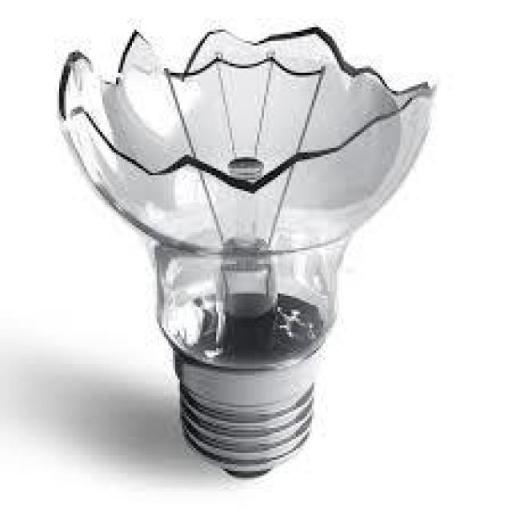glass: (61, 11, 440, 375)
